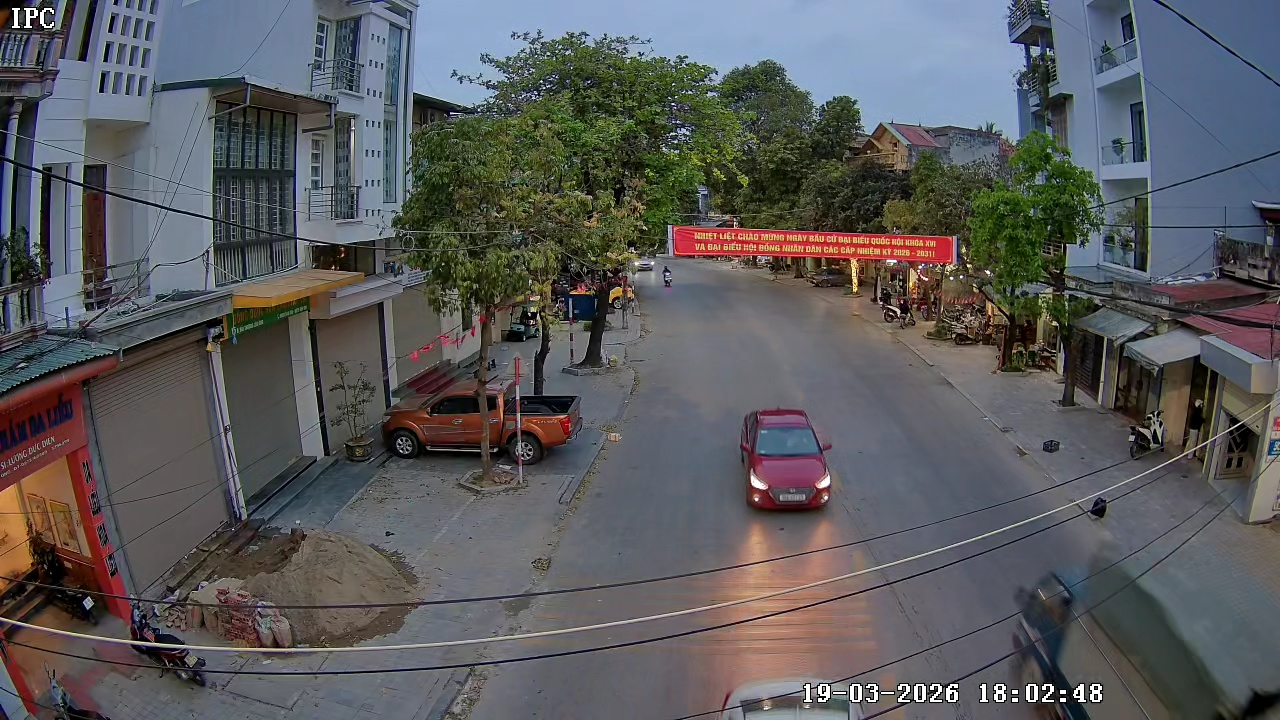car: (738, 407, 833, 512)
